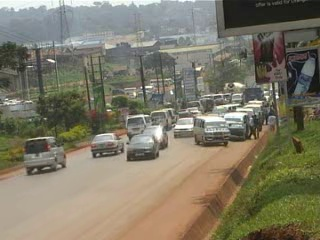Car: (122, 132, 160, 161), (90, 131, 125, 159), (140, 123, 169, 150), (172, 116, 196, 139), (176, 106, 191, 120), (185, 104, 200, 117)
